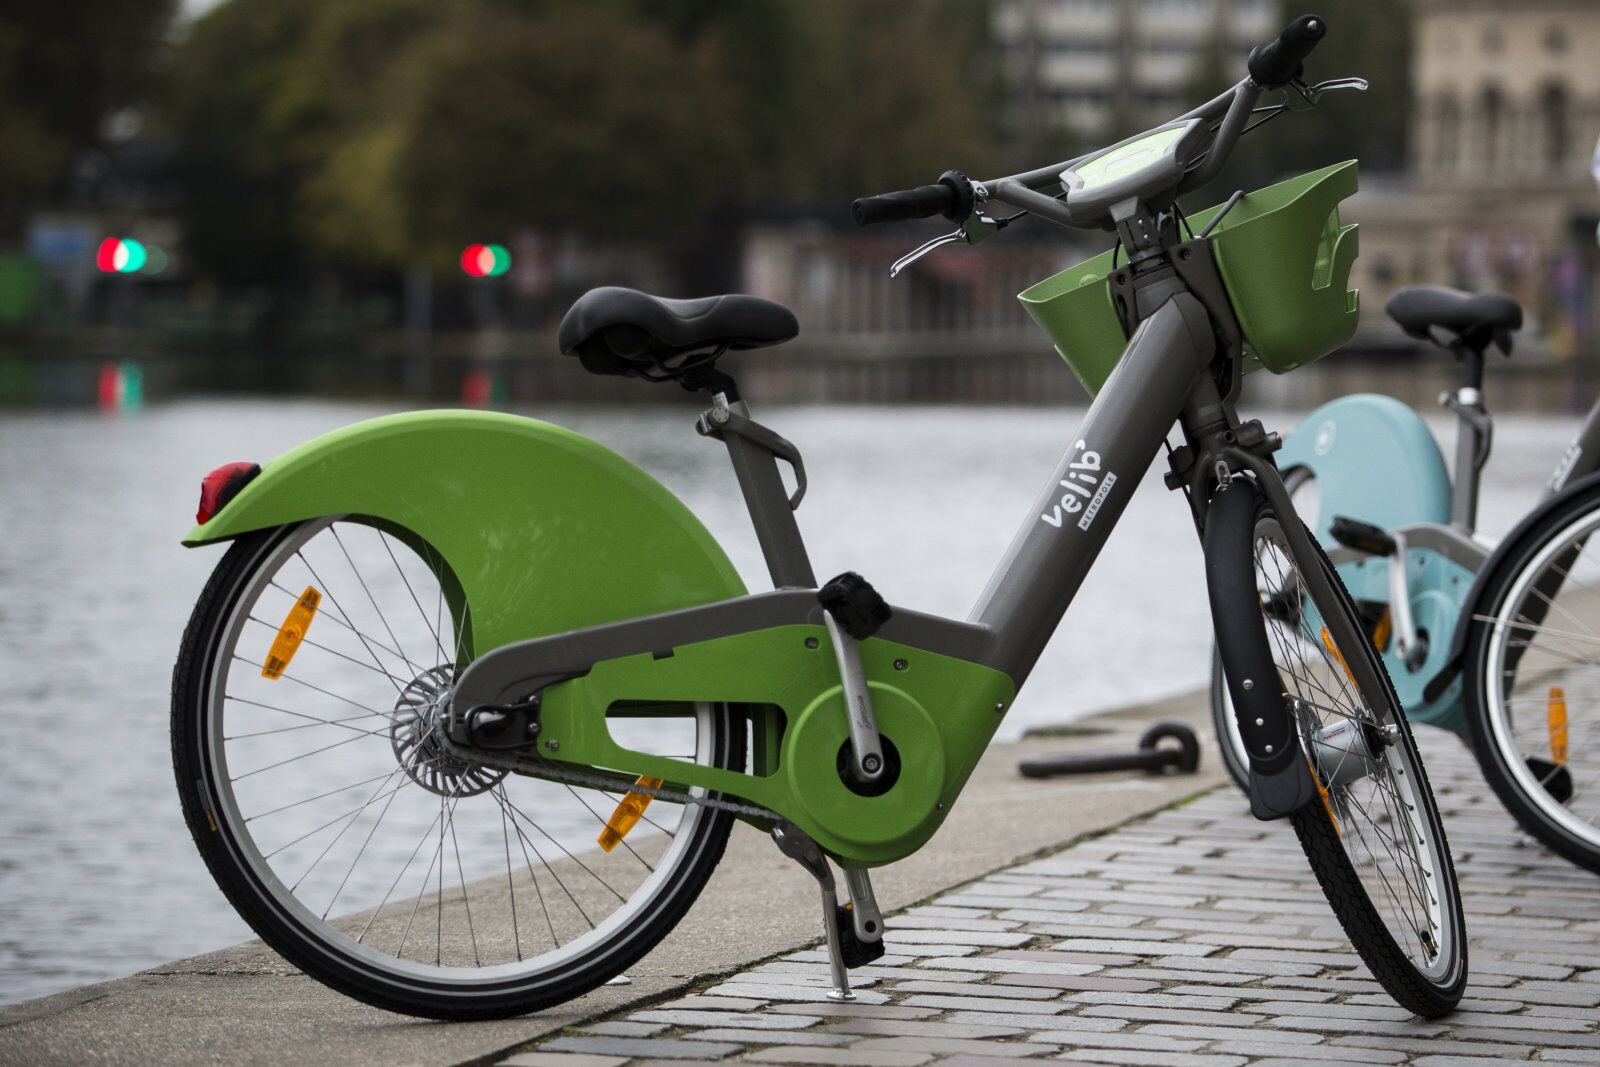MNV: (171, 27, 1465, 1015)
